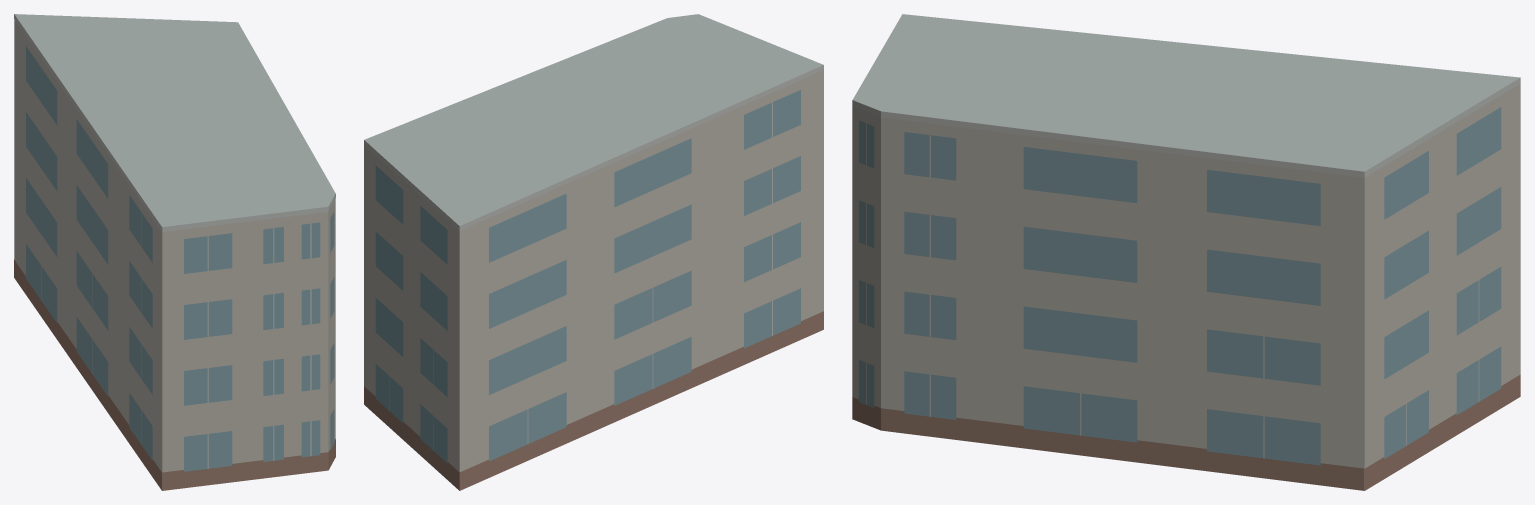
The model's file is survey-upis-33000244.glb.
3 views of the same model, side by side, from view 1: azimuth 30°, elevation 25°; view 2: azimuth 150°, elevation 25°; view 3: azimuth 270°, elevation 25° (orthographic). The views are drawn at different scales.
Visible parts, largest first — view 1: survey-upis-33000244.tmp; view 2: survey-upis-33000244.tmp; view 3: survey-upis-33000244.tmp.
Part boxes in pixels (x1=…): survey-upis-33000244.tmp: x1=14, y1=14, x2=335, y2=490; survey-upis-33000244.tmp: x1=364, y1=14, x2=823, y2=490; survey-upis-33000244.tmp: x1=852, y1=14, x2=1520, y2=490.
Bounding box in the file's own units: 13.62 × 12.85 × 24.38.
